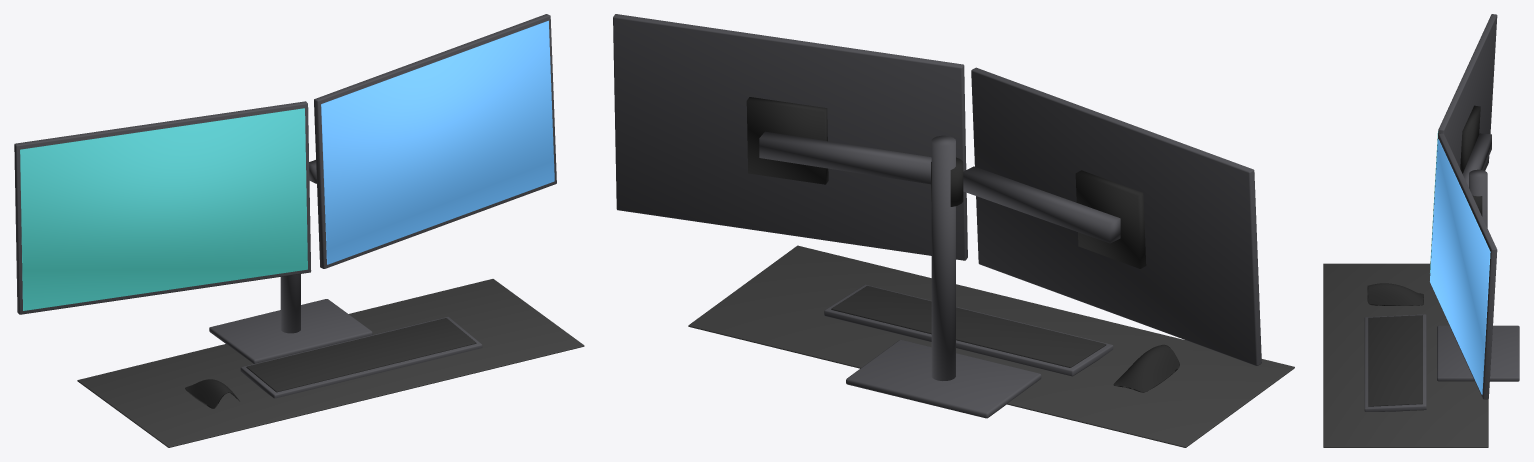
The model's file is tech.monitor-set.glb.
3 renders of one model, left to right at view 1: azimuth 30°, elevation 25°; view 2: azimuth 150°, elevation 25°; view 3: azimuth 270°, elevation 25°, orthographic. The views are drawn at different scales.
Parts seen in each view (by area): view 1: tech_monitor_set; view 2: tech_monitor_set; view 3: tech_monitor_set.
Boxes of the visible parts, left/top/right/bottom form: tech_monitor_set: left=14, top=14, right=584, bottom=447; tech_monitor_set: left=613, top=14, right=1294, bottom=447; tech_monitor_set: left=1323, top=14, right=1519, bottom=447.
Size of the model in its own units: 1.08 by 0.48 by 0.38.
